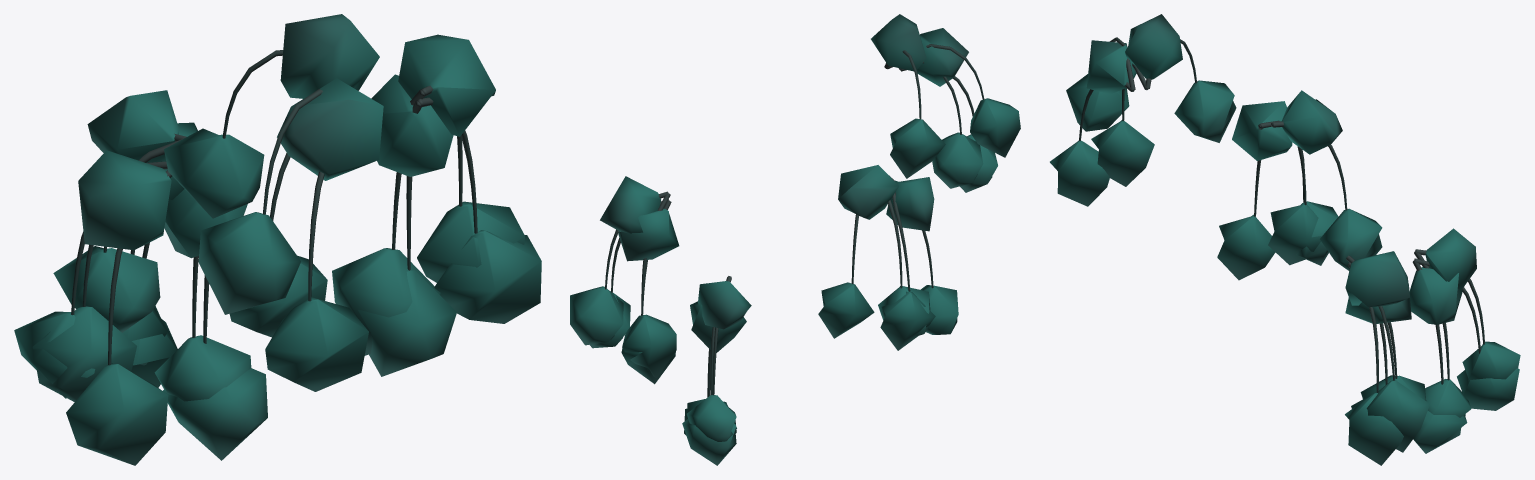
3 renders of one model, left to right at view 1: azimuth 30°, elevation 25°; view 2: azimuth 150°, elevation 25°; view 3: azimuth 270°, elevation 25°, orthographic. The views are drawn at different scales.
Parts seen in each view (by area): view 1: fruit.004; view 2: fruit.004; view 3: fruit.004.
Part boxes in pixels (x1,y1,x2,y2): fruit.004: (14, 14, 541, 465); fruit.004: (570, 14, 1020, 465); fruit.004: (1050, 14, 1520, 465).
Bounding box in the file's own units: 0.4374 × 0.4666 × 0.5.
